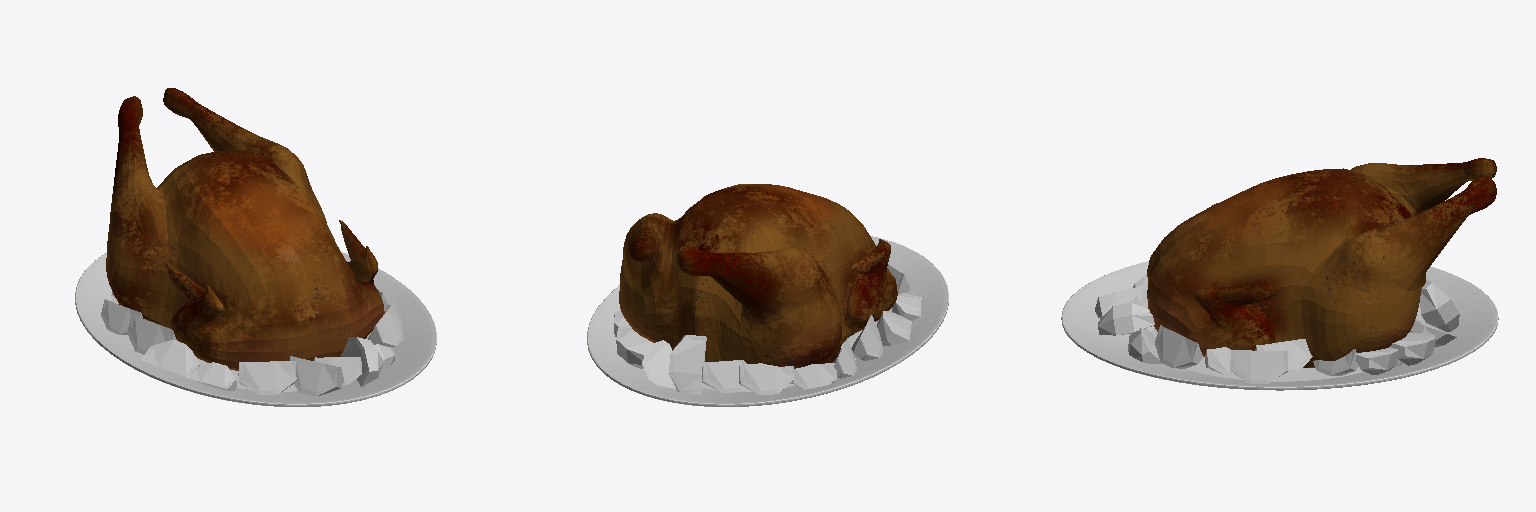
3 renders of one model, left to right at view 1: azimuth 30°, elevation 25°; view 2: azimuth 150°, elevation 25°; view 3: azimuth 270°, elevation 25°, orthographic.
Parts seen in each view (by area): view 1: frango_Cube.002, batata_Cube.001, Prato_Circle.001; view 2: frango_Cube.002, batata_Cube.001, Prato_Circle.001; view 3: frango_Cube.002, batata_Cube.001, Prato_Circle.001.
Part boxes in pixels (bbox=[...]): frango_Cube.002: bbox=[106, 88, 384, 370]; batata_Cube.001: bbox=[101, 288, 403, 395]; Prato_Circle.001: bbox=[75, 252, 436, 406]; frango_Cube.002: bbox=[619, 184, 897, 368]; batata_Cube.001: bbox=[614, 264, 921, 395]; Prato_Circle.001: bbox=[587, 236, 948, 406]; frango_Cube.002: bbox=[1147, 158, 1496, 367]; batata_Cube.001: bbox=[1095, 274, 1459, 383]; Prato_Circle.001: bbox=[1061, 261, 1498, 390].
Bounding box in the file's own units: 2.81 × 1.64 × 3.69.
Materials: 3 (1 with a texture image).